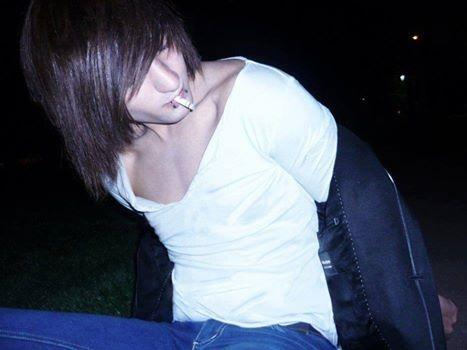cigarette: (173, 97, 197, 111)
